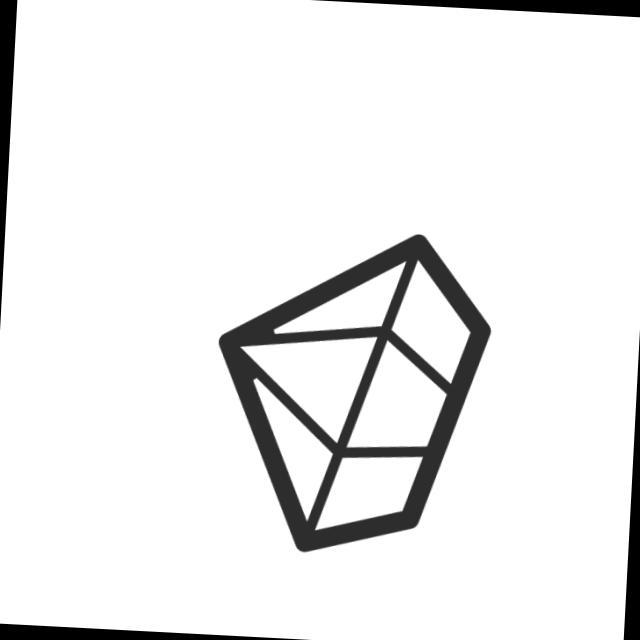diamond: (202, 216, 505, 570)
